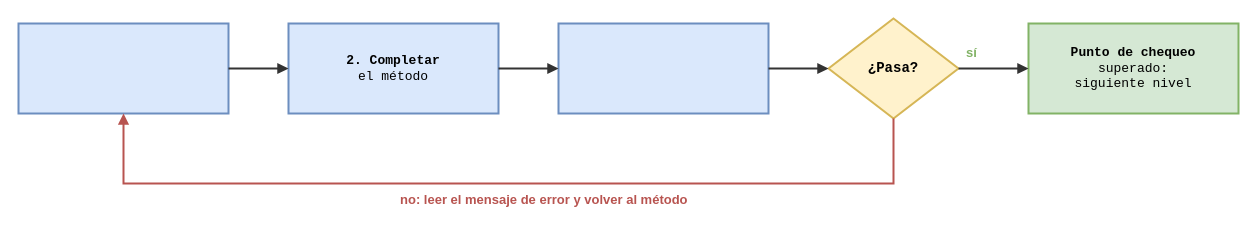
Image size: 1256x228. Some labels were removed from this diagram. The box of each missing label's shape, as (x1, y1, x2, y2) in pixels:
1. Leer la documentación del método: (17, 22, 229, 114)
3. Ejecutar la prueba del nivel: (557, 22, 769, 114)
